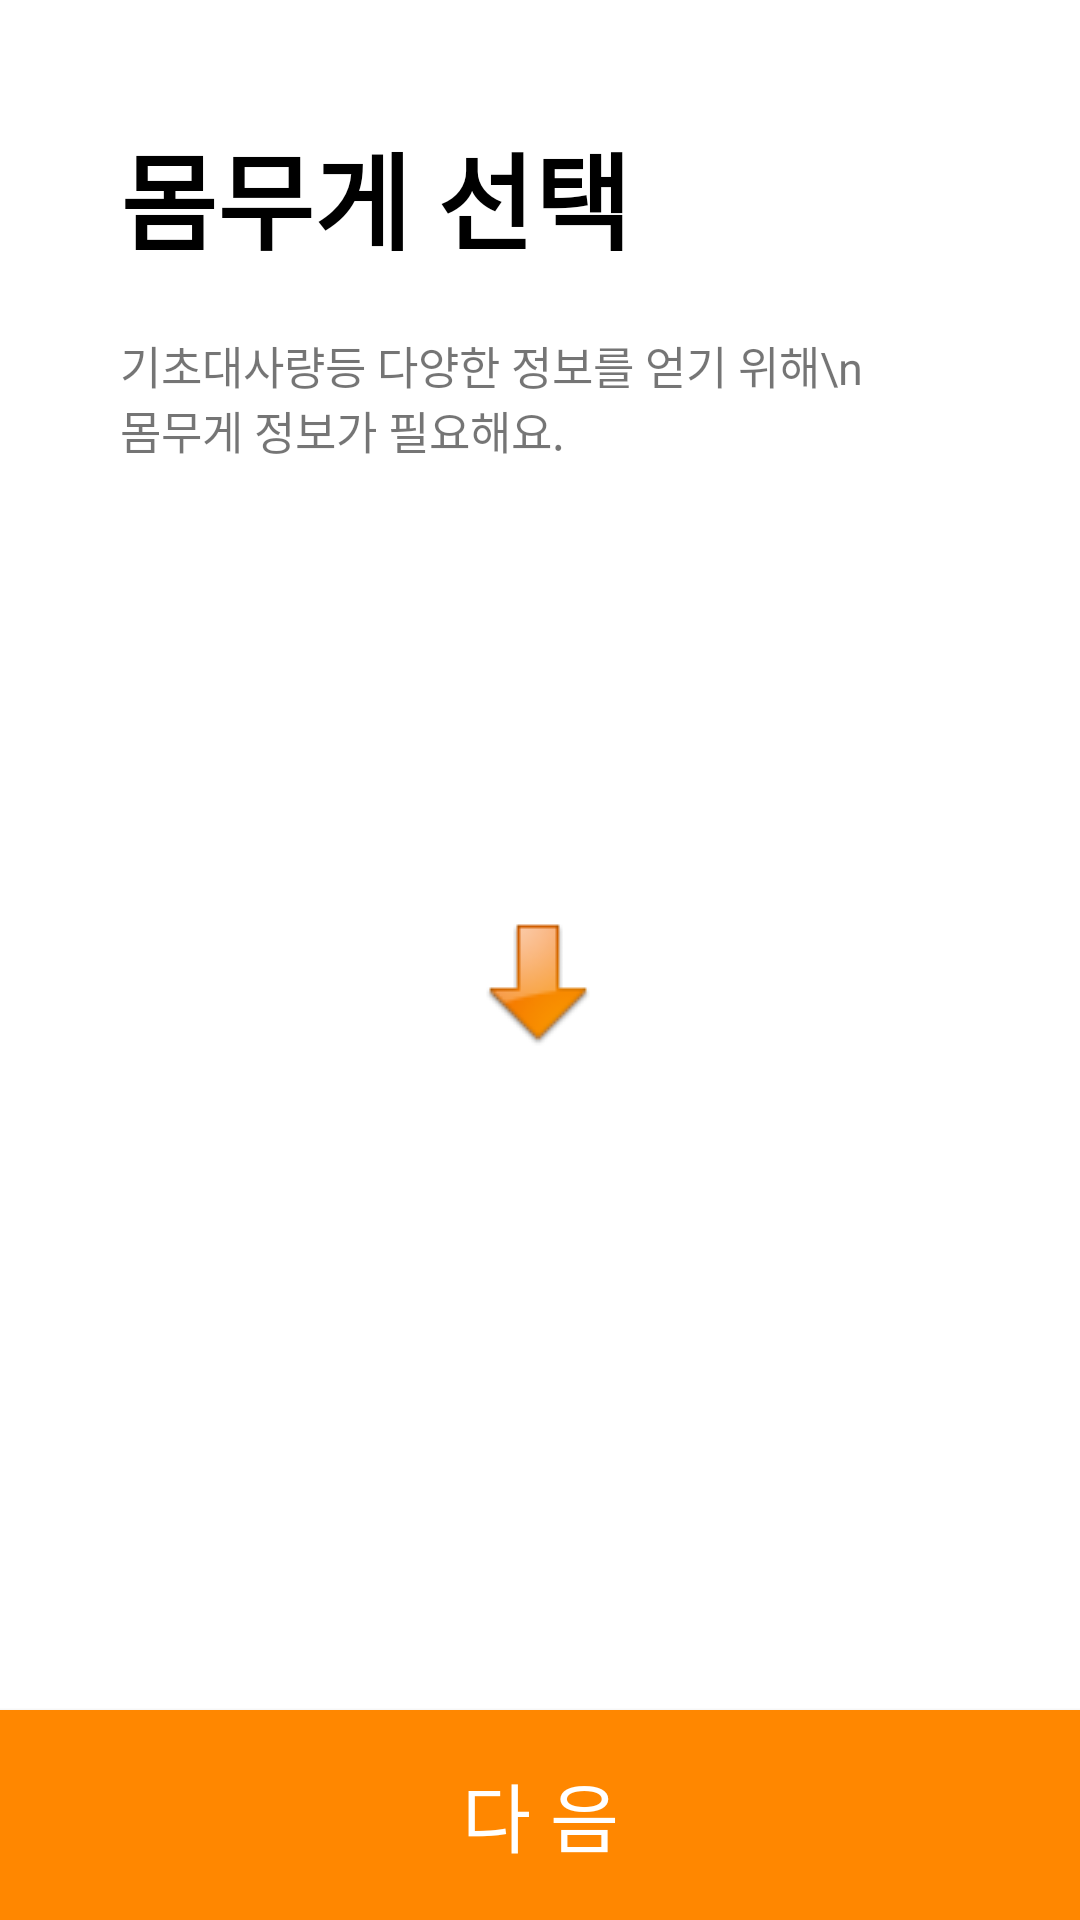

Point at icon controls on the screen. Image size 1080px x 1920px, points as [x,y].
arrow: [538,983]
